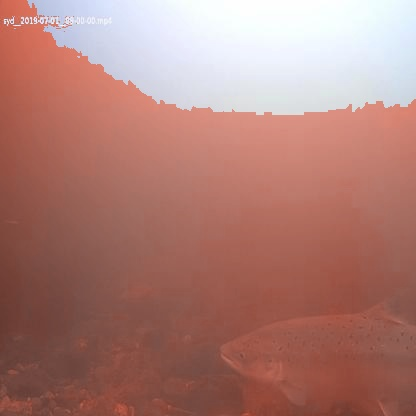salmon: (216, 292, 416, 416)
